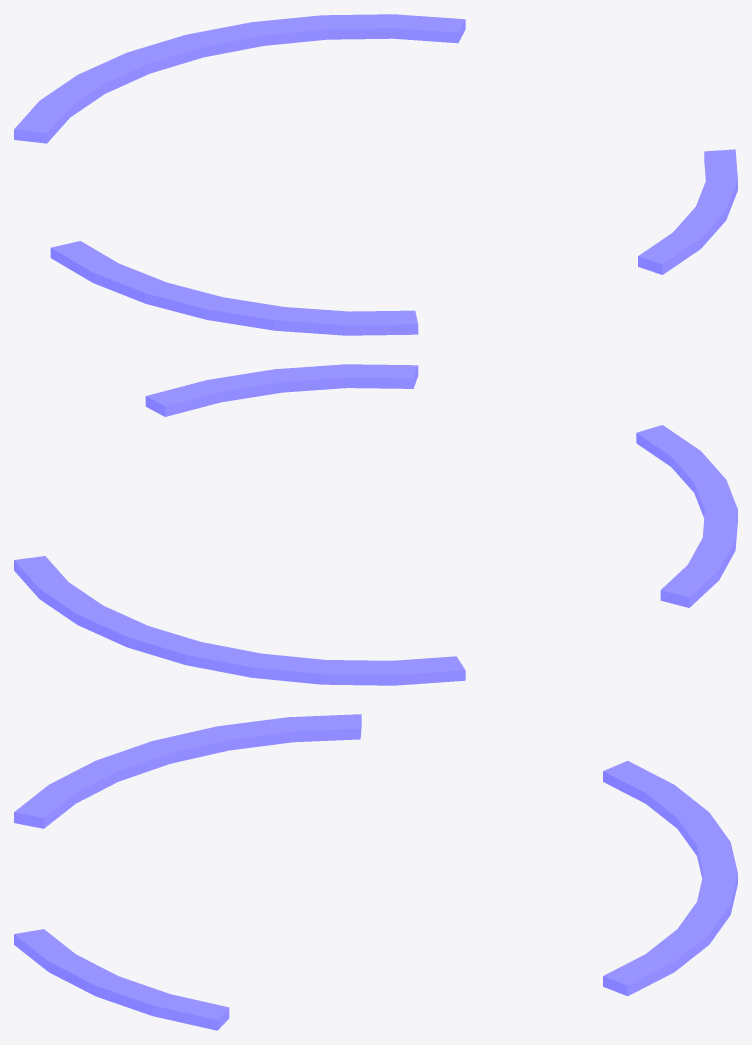
The model's file is ring2.fbx.
3 renders of one model, top to bottom at view 1: azimuth 30°, elevation 25°; view 2: azimuth 150°, elevation 25°; view 3: azimuth 270°, elevation 25°, orthographic. The views are drawn at different scales.
Parts seen in each view (by area): view 1: Circle.002; view 2: Circle.002; view 3: Circle.002.
Boxes of the visible parts, x1,y1,x2,y2 form: Circle.002: (14, 14, 737, 335); Circle.002: (14, 364, 737, 685); Circle.002: (14, 714, 737, 1030).
Size of the model in its own units: 107 by 1.75 by 107.
